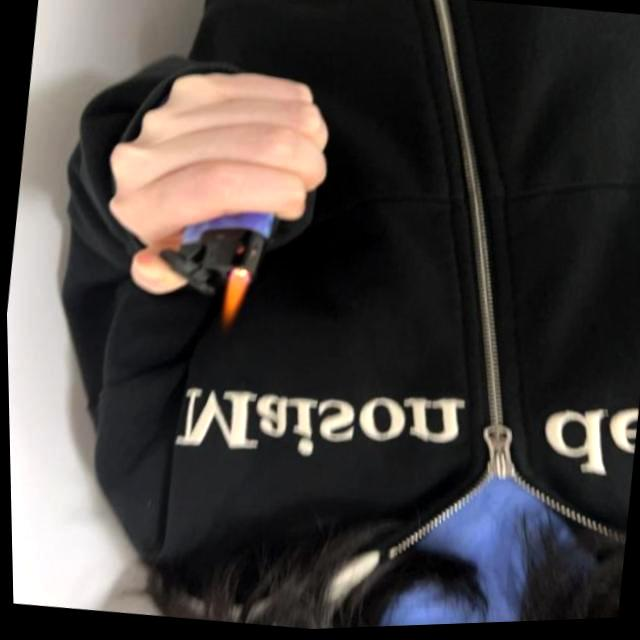fire: (215, 264, 252, 330)
